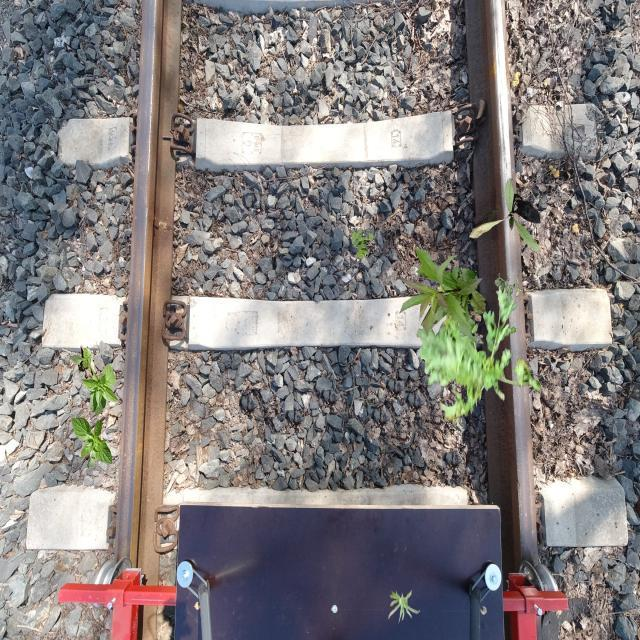Plant: (417, 280, 542, 427), (398, 247, 486, 344), (469, 178, 540, 252), (72, 345, 120, 416), (71, 415, 112, 468), (388, 589, 420, 624), (495, 273, 522, 304), (350, 228, 374, 258)
